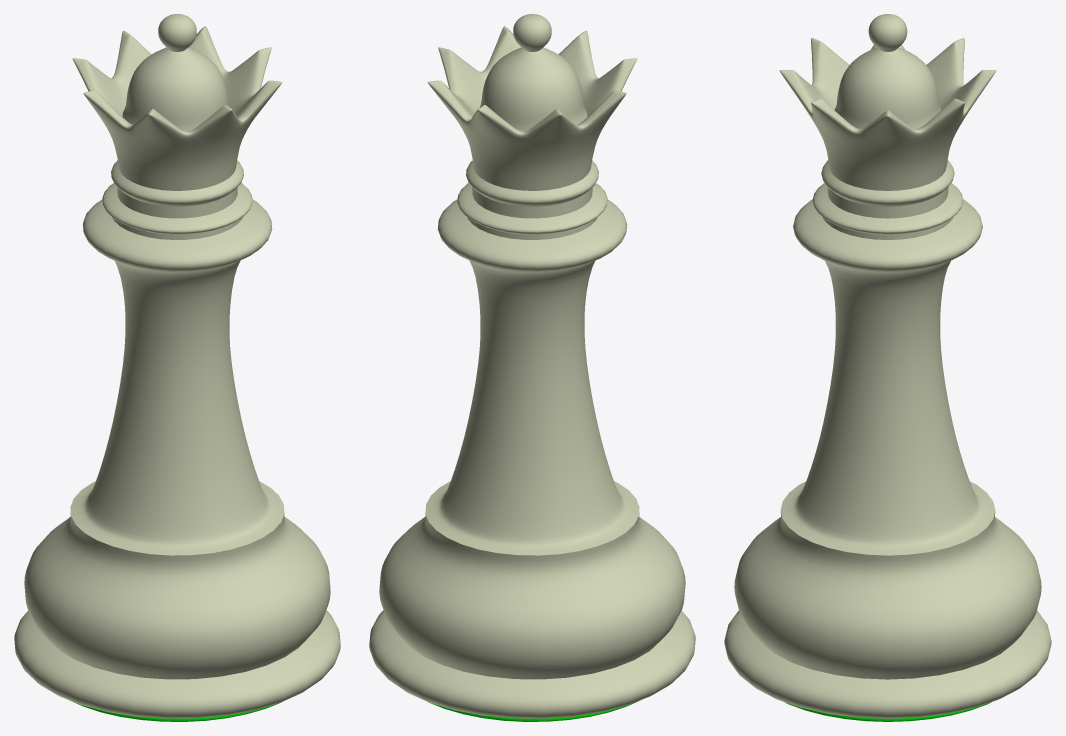
Rendered from queen.obj.
3 views of the same model, side by side, from view 1: azimuth 30°, elevation 25°; view 2: azimuth 150°, elevation 25°; view 3: azimuth 270°, elevation 25° (orthographic).
Parts seen in each view (by area): view 1: chess_board_all:queen_copy19; view 2: chess_board_all:queen_copy19; view 3: chess_board_all:queen_copy19.
Boxes of the visible parts, <box> form: chess_board_all:queen_copy19: <box>14,14,340,721</box>; chess_board_all:queen_copy19: <box>369,14,695,721</box>; chess_board_all:queen_copy19: <box>724,14,1051,721</box>.
Size of the model in its own units: 1.87 by 4.08 by 1.87.
